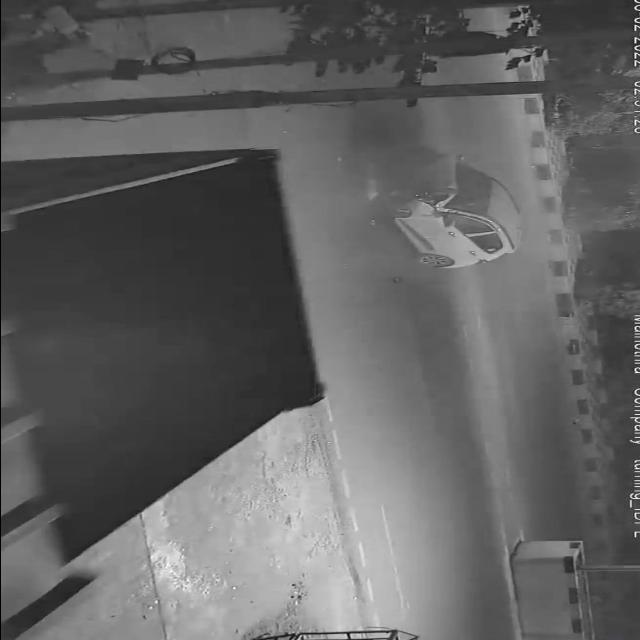accident: (359, 137, 536, 276)
